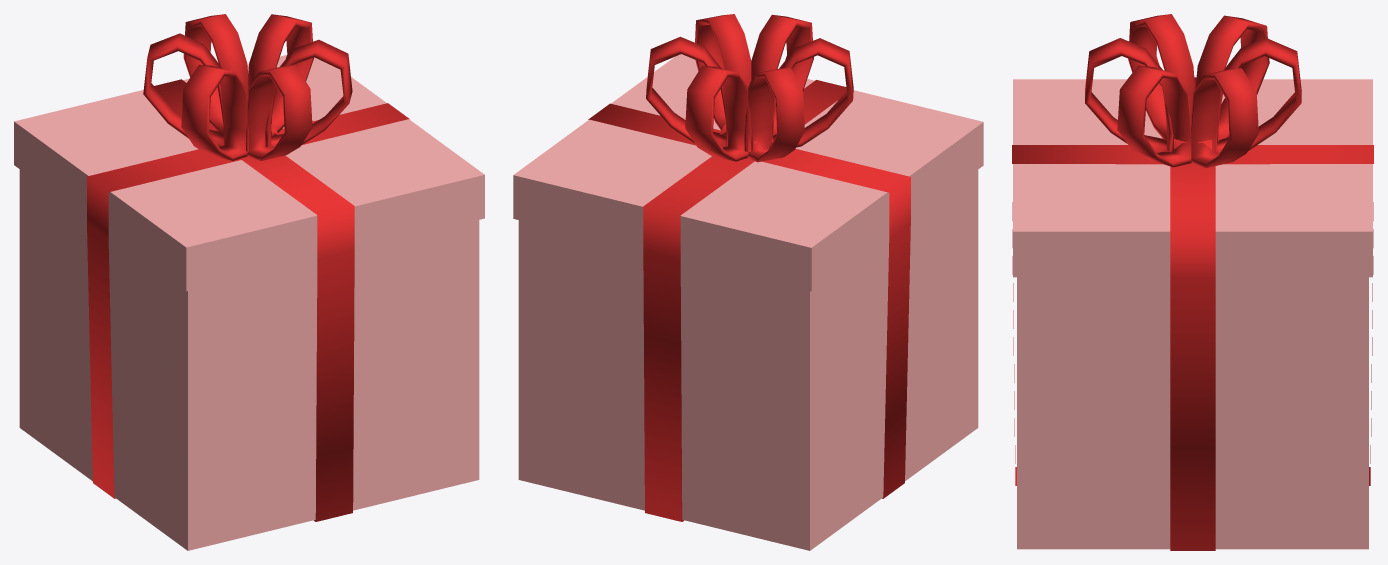
Rendered from preboxrib08270112red.fbx.
3 renders of one model, left to right at view 1: azimuth 30°, elevation 25°; view 2: azimuth 150°, elevation 25°; view 3: azimuth 270°, elevation 25°, orthographic. The views are drawn at different scales.
Visible parts, largest first — view 1: Cube, 平面; view 2: Cube, 平面; view 3: Cube, 平面.
Boxes of the visible parts, box(x1,y1,x2,y2) form: Cube: box(14, 55, 484, 550); 平面: box(87, 14, 409, 521); Cube: box(513, 54, 983, 550); 平面: box(588, 14, 910, 521); Cube: box(1013, 79, 1372, 549); 平面: box(1012, 14, 1373, 550).
Bounding box in the file's own units: 2.07 × 2.71 × 2.06.
